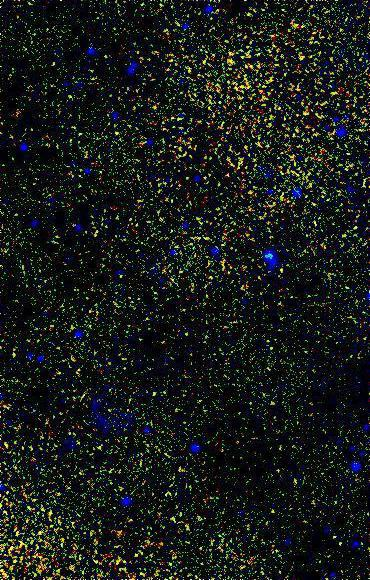star: (263, 257, 293, 287)
